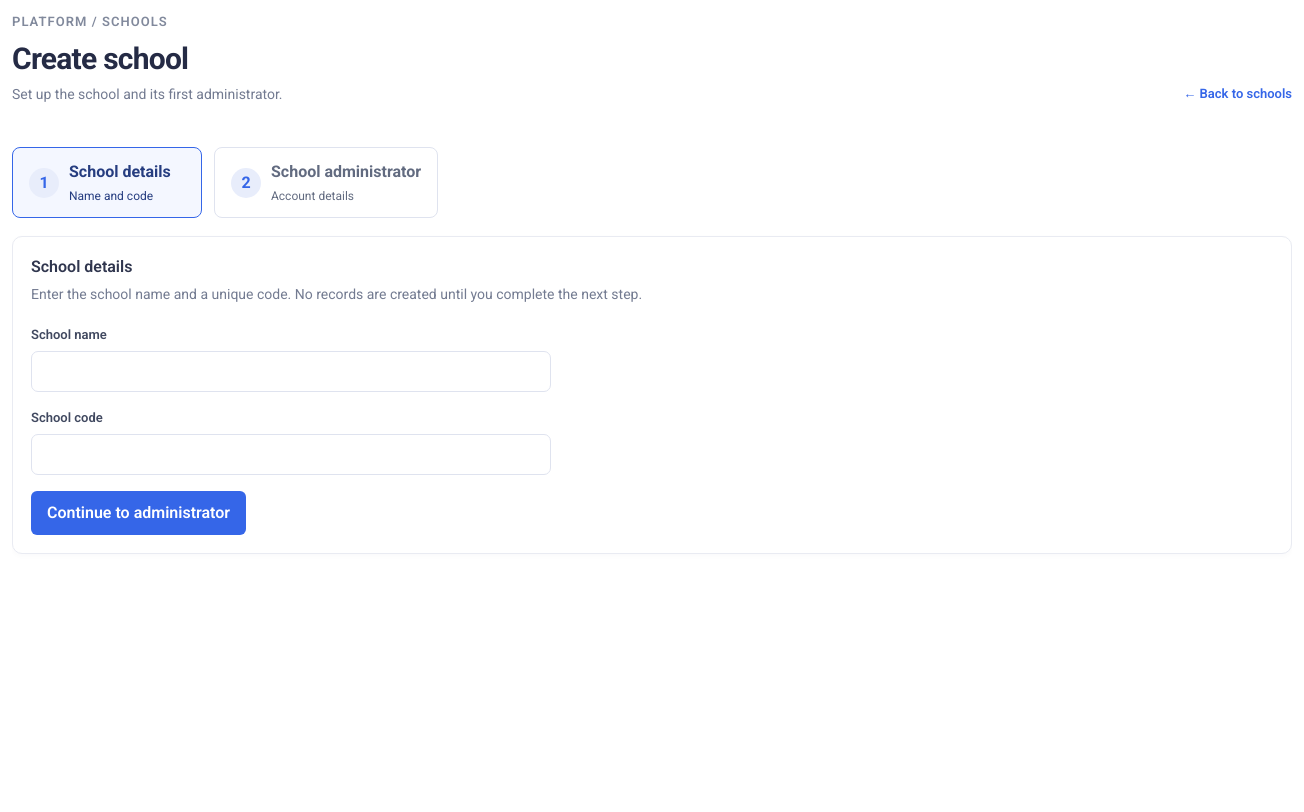
Test: platform school and administrator creation › collects both steps before creating the school and its administrator
Type " Example School " into the field labelled "School name" at (291, 371), box [31, 350, 551, 392]
Type " EXAMPLE " into the field labelled "School code" at (291, 454), box [31, 434, 551, 475]
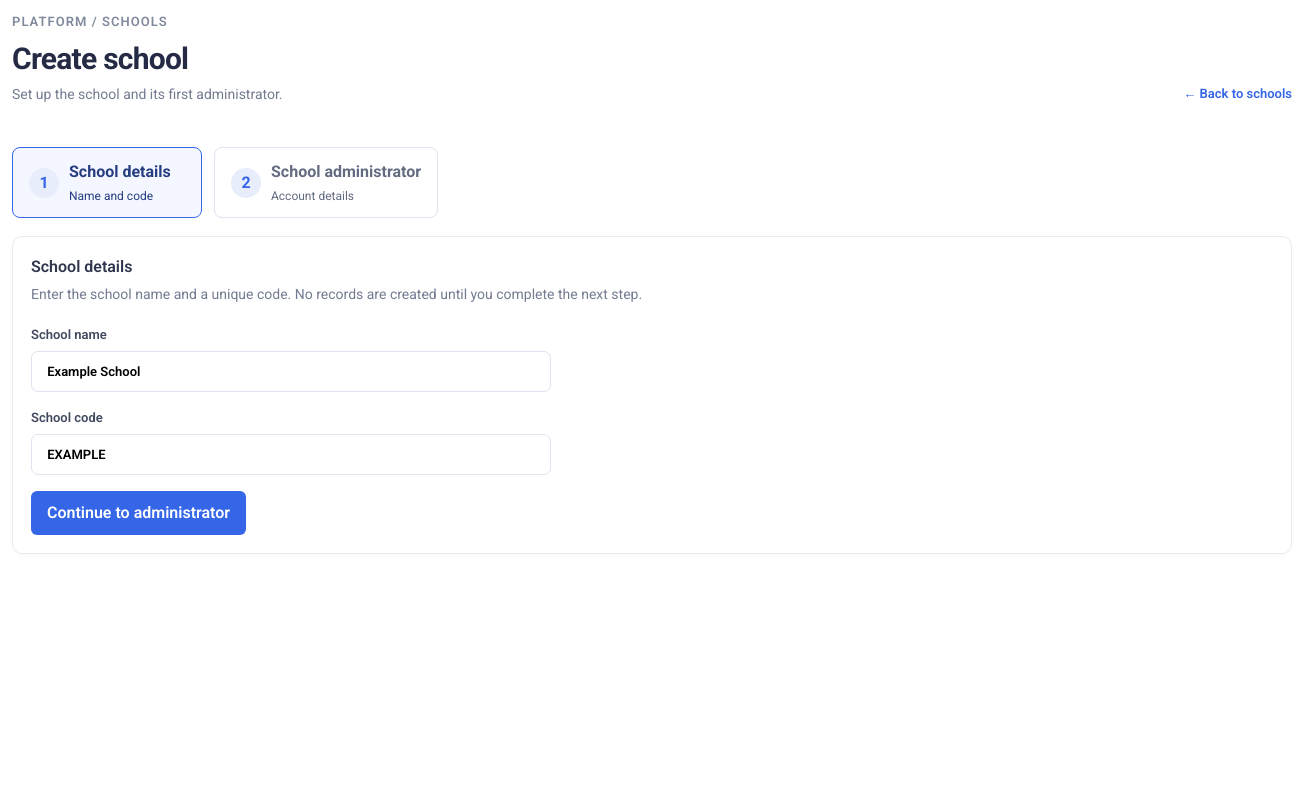
Click the button "Continue to administrator" at (139, 513), box [31, 491, 246, 535]
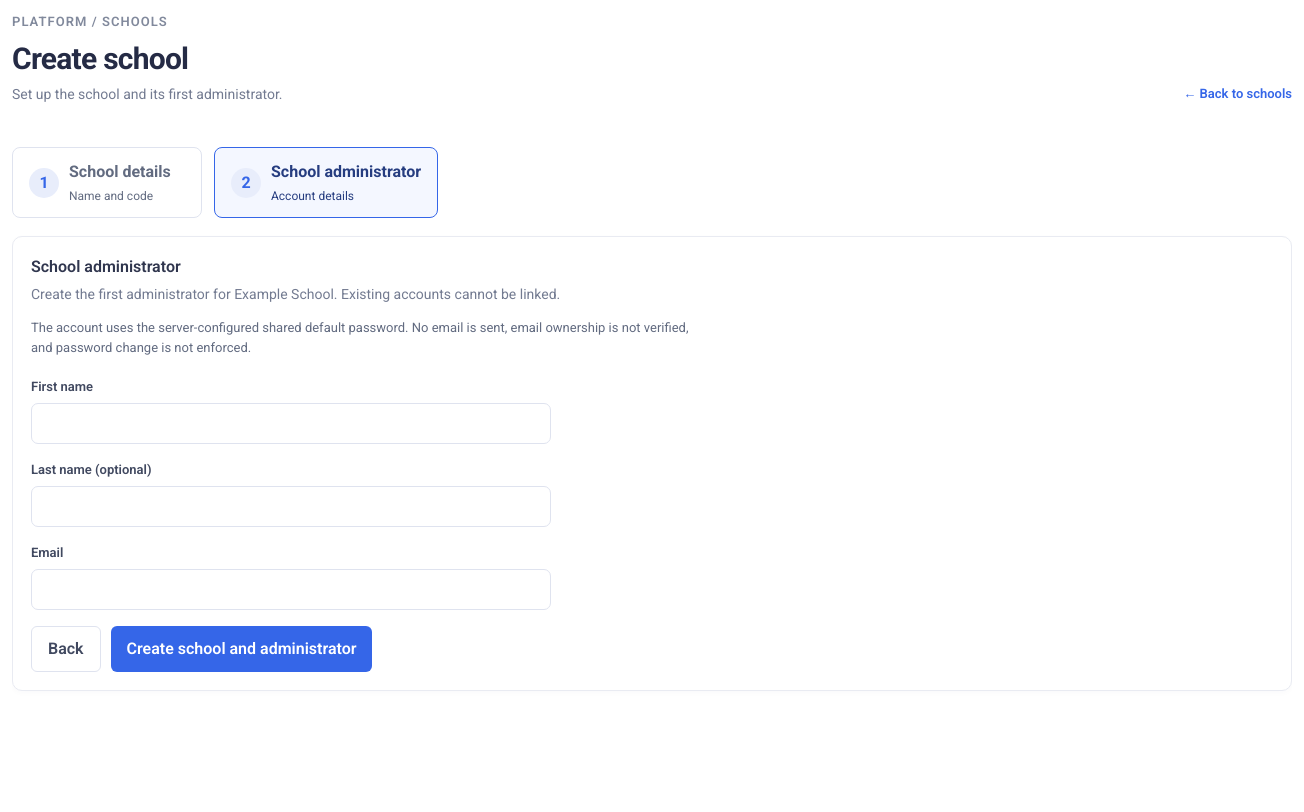
Check: the list named "creation steps" shows "School administrator", box [271, 162, 421, 181]
Type " Synthetic " into the field labelled "First name" at (291, 423), box [31, 402, 551, 444]
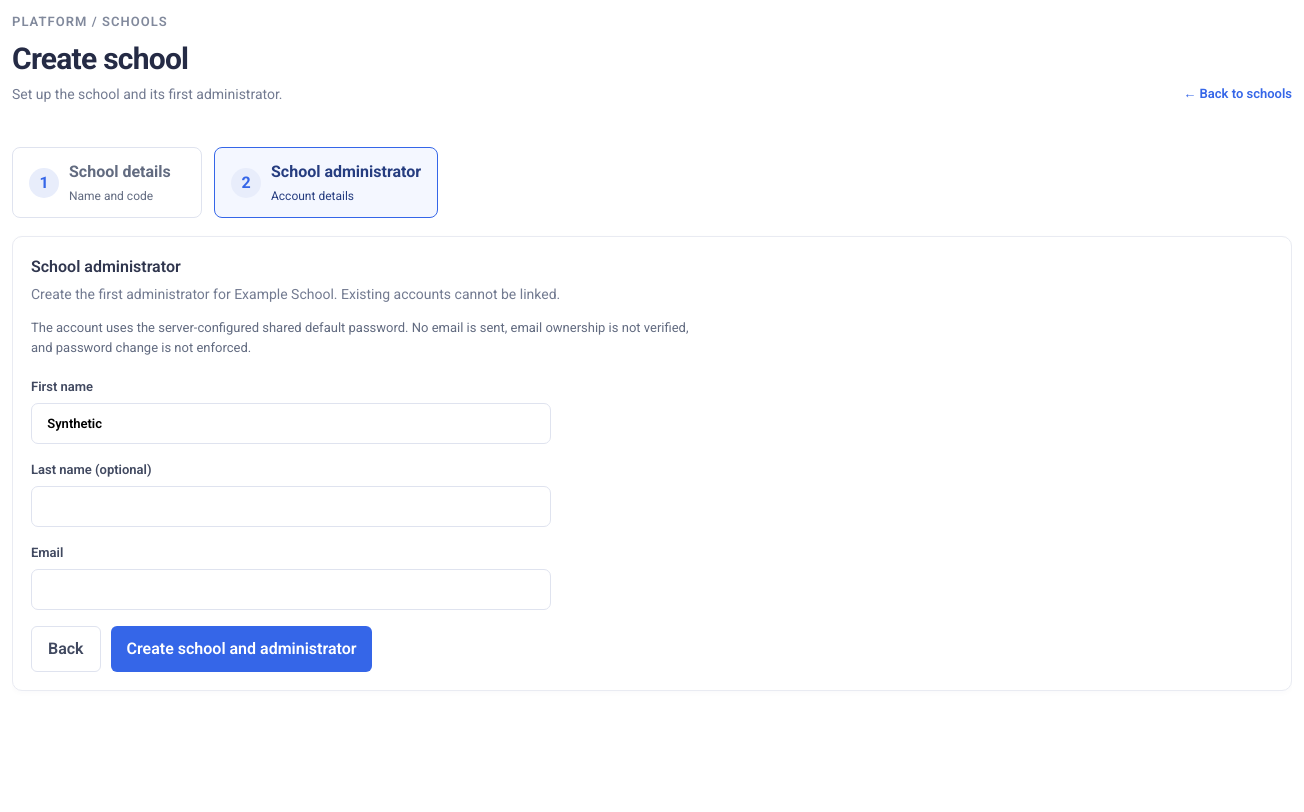
Type " Admin " into the field labelled "Last name (optional)" at (291, 506), box [31, 486, 551, 527]
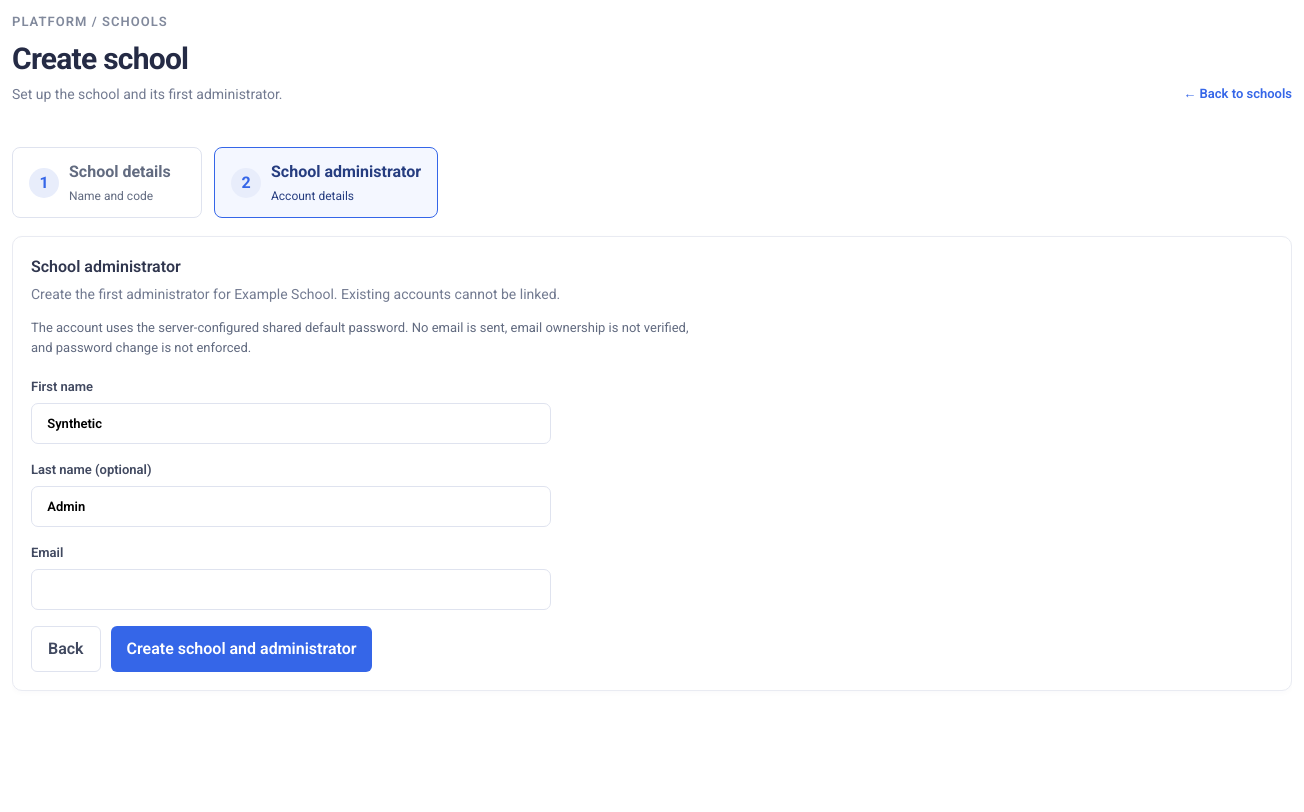
Type "ADMIN@example.test" into the field labelled "Email" at (291, 589), box [31, 568, 551, 610]
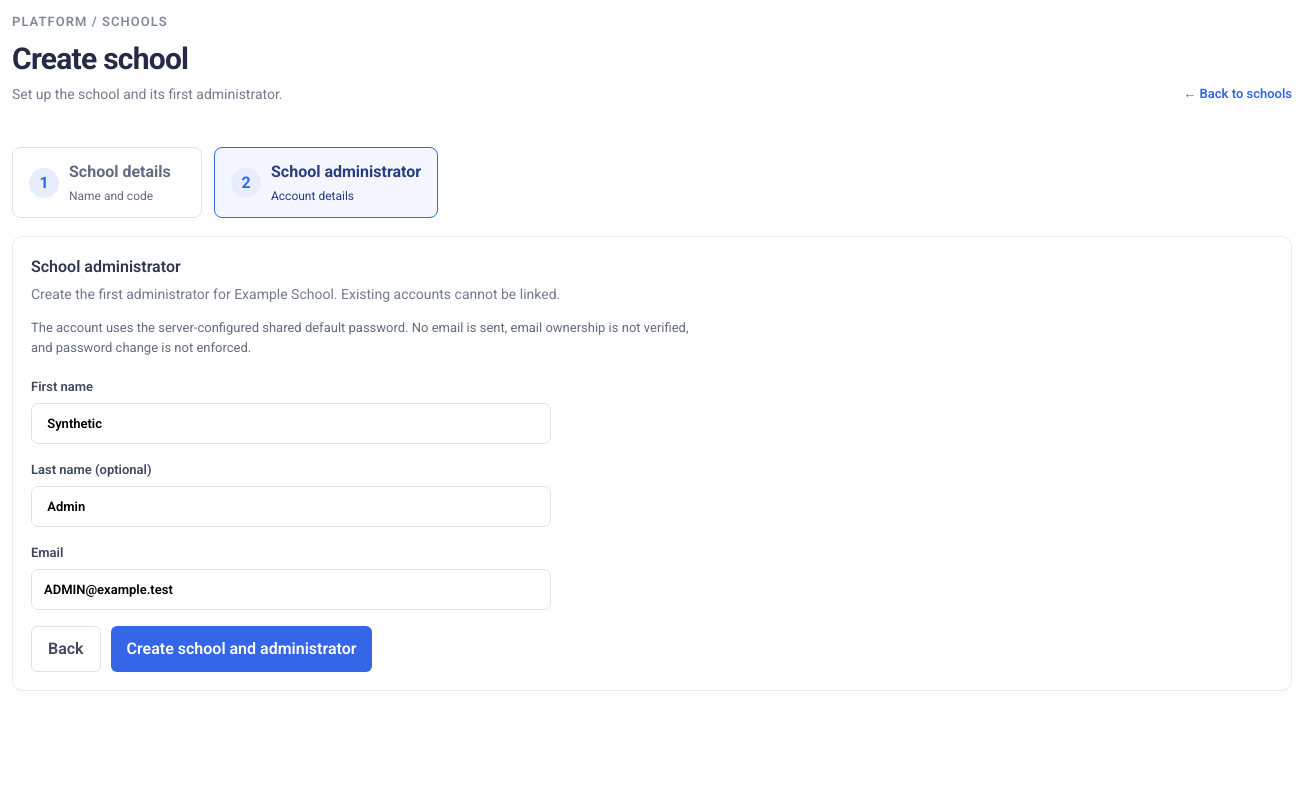
Click the button "Create school and administrator" at (241, 649), box [110, 626, 372, 672]
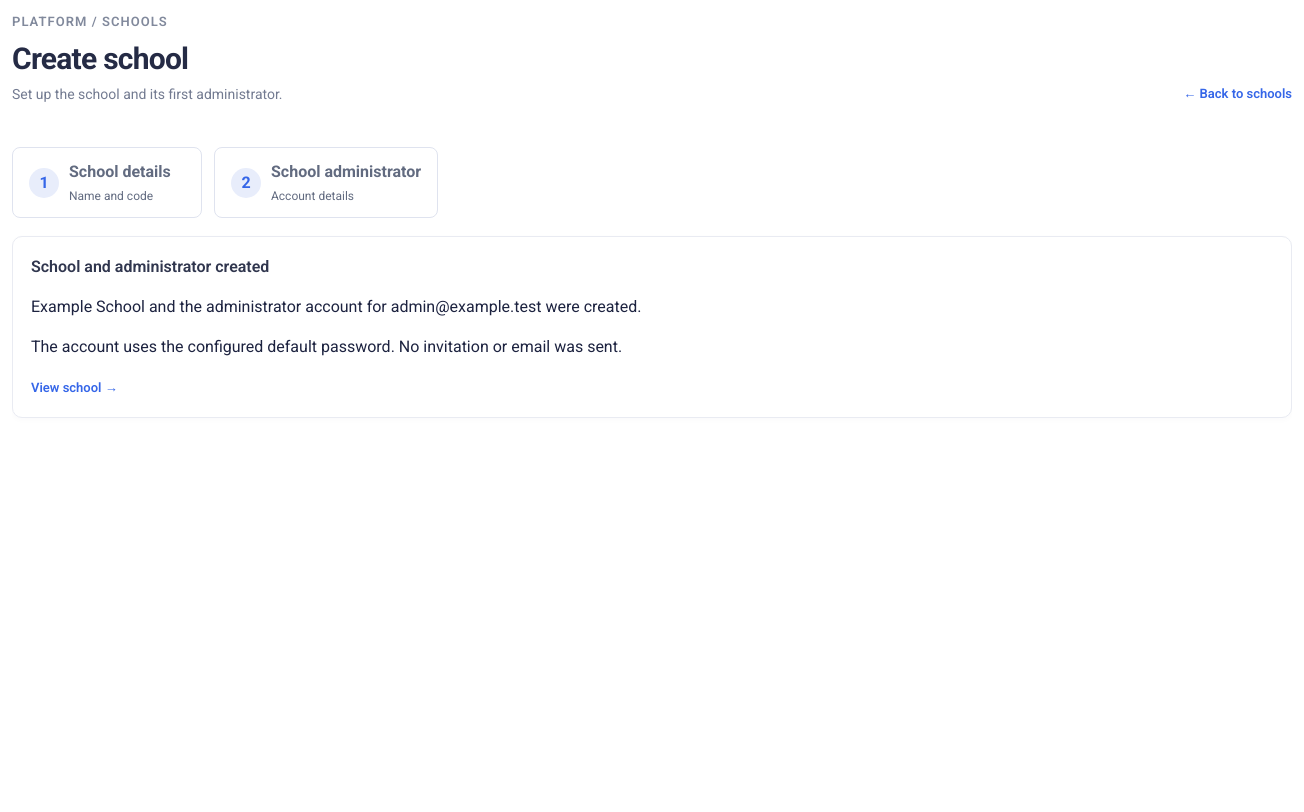
Check: the heading "School and administrator created" is shown, box [31, 255, 269, 279]
Check: the text "no invitation or email was sent" is shown, box [31, 337, 622, 356]
